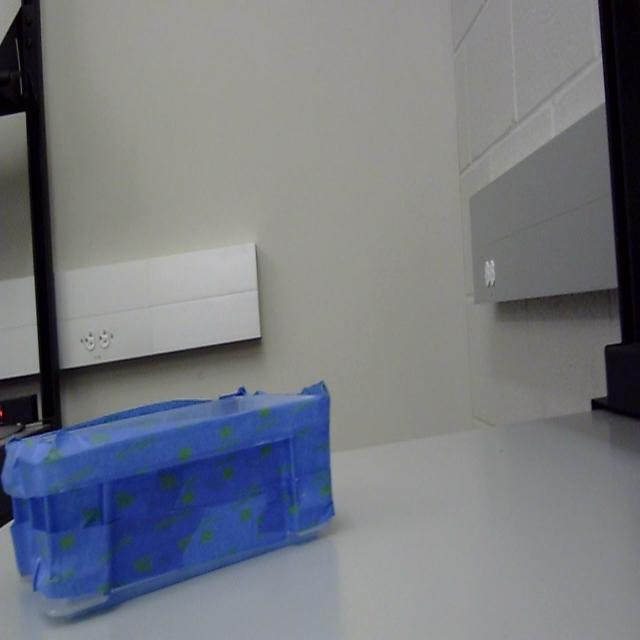bucket: (0, 384, 337, 625)
